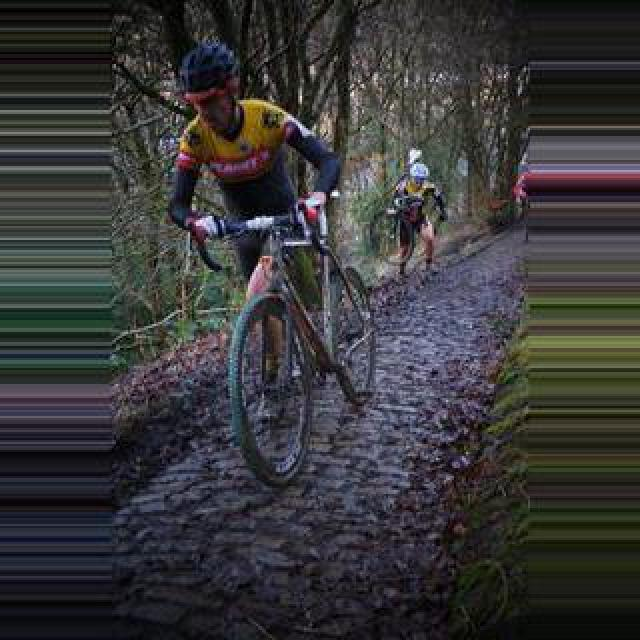MC-Bike: (160, 38, 346, 444), (388, 150, 448, 274)
Person: (182, 190, 380, 490), (368, 182, 430, 278)
